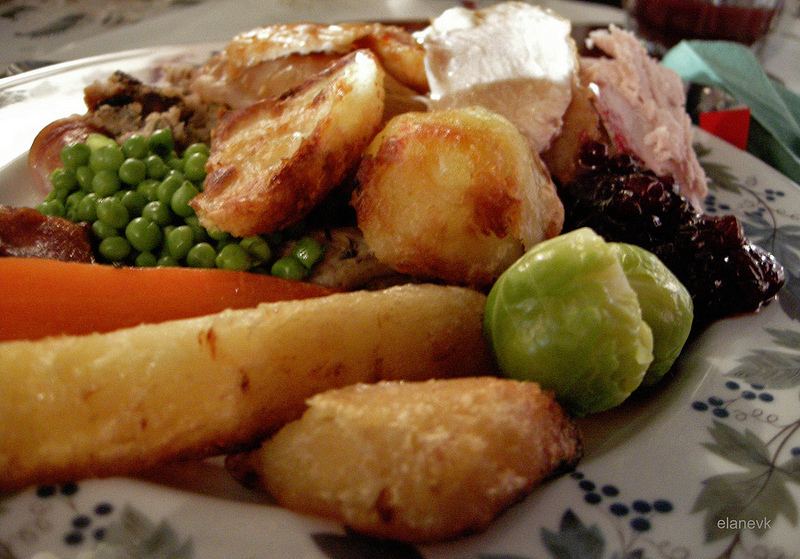boiled peas: (39, 140, 293, 272)
boiled potatoes: (358, 119, 548, 269), (209, 56, 377, 224)
